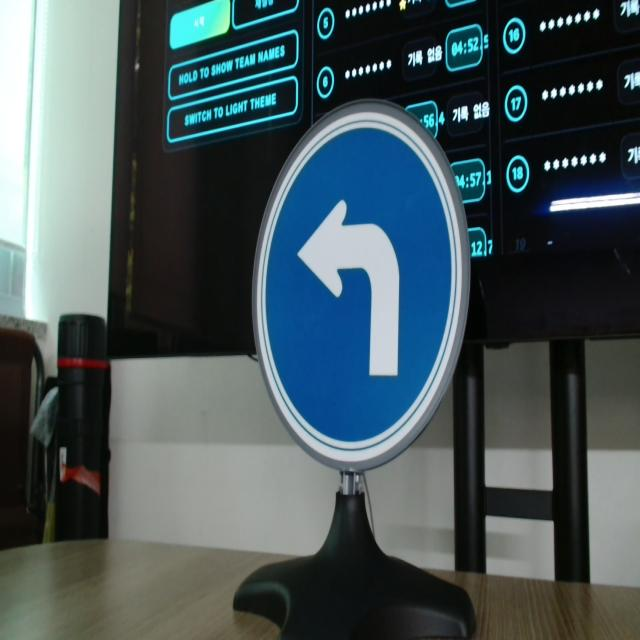left_direction: (247, 99, 473, 477)
